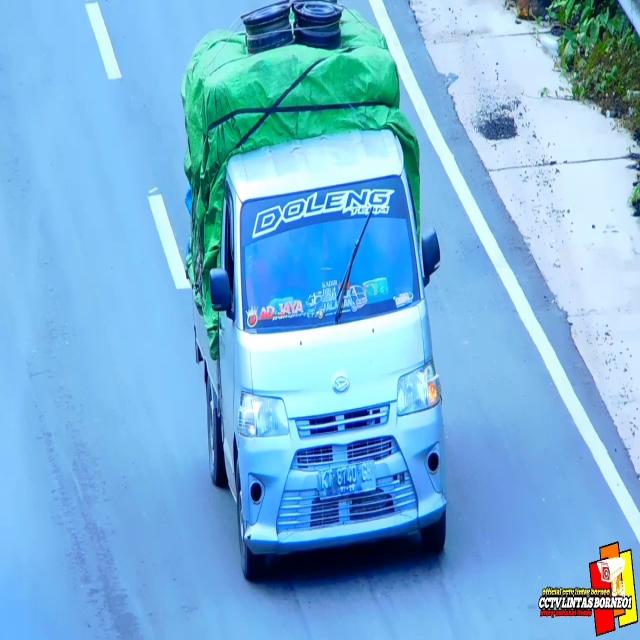Golongan IVB: (190, 126, 448, 576)
